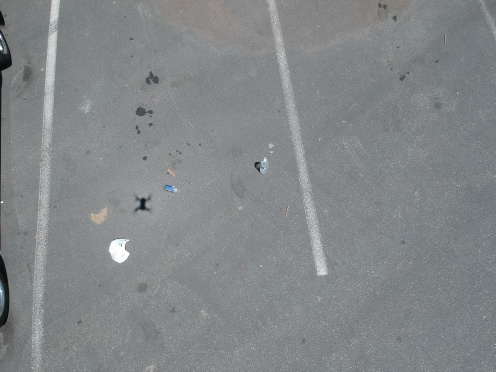bottle: (255, 155, 273, 176)
can: (160, 179, 183, 195)
plastic bag: (102, 233, 134, 265)
